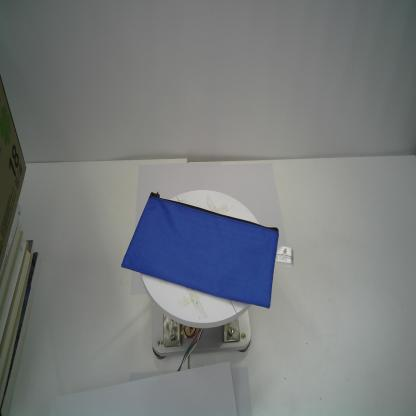Stationery: (121, 191, 279, 310)
